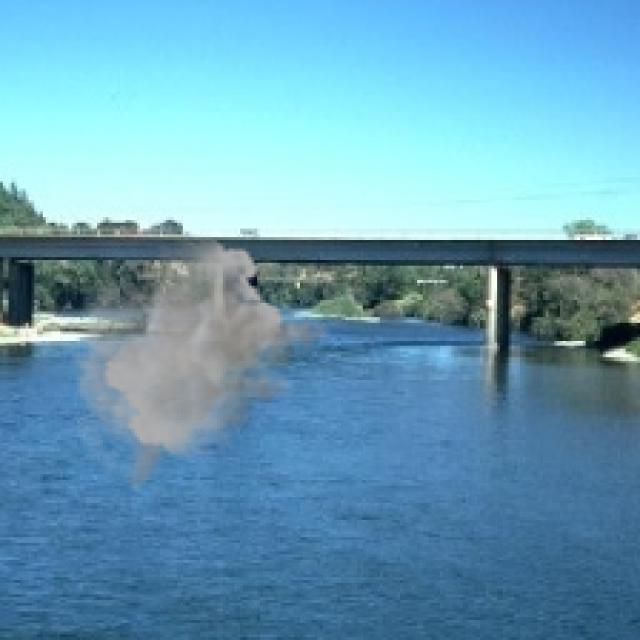smoke: (69, 234, 334, 492)
